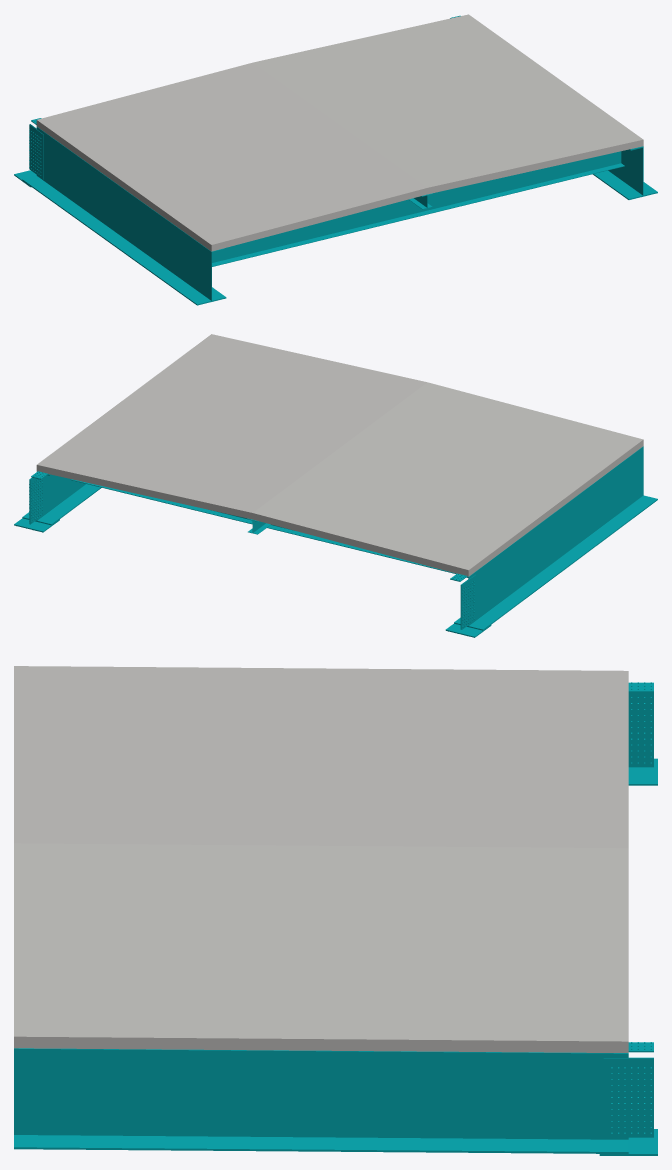
File: DECK_SN02.glb
The picture shows the model from 3 angles, top to bottom: view 1: azimuth 30°, elevation 25°; view 2: azimuth 150°, elevation 25°; view 3: azimuth 270°, elevation 25°; orthographic projection. The views are drawn at different scales.
Visible parts, largest first — view 1: SN02_Slab_15, SN02_G_W_0, SN02_FB_web_11, SN02_FB_bf_14, SN02_G_E_1, SN02_SpliceW_17; view 2: SN02_Slab_15, SN02_G_W_0, SN02_G_E_1, SN02_FB_bf_6, SN02_SpliceW_17, SN02_SpliceW_25; view 3: SN02_Slab_15, SN02_G_E_1, SN02_SpliceW_26, SN02_SpliceW_18.
Boxes of the visible parts, box(x1,y1,x2,y2) form: SN02_Slab_15: box(36, 14, 643, 251); SN02_G_W_0: box(22, 127, 226, 305); SN02_FB_web_11: box(212, 151, 621, 262); SN02_FB_bf_14: box(212, 163, 624, 266); SN02_G_E_1: box(593, 146, 657, 199); SN02_SpliceW_17: box(29, 124, 43, 179); SN02_Slab_15: box(36, 334, 643, 576); SN02_G_W_0: box(454, 446, 657, 630); SN02_G_E_1: box(22, 474, 101, 525); SN02_FB_bf_6: box(70, 479, 455, 573); SN02_SpliceW_17: box(461, 575, 476, 629); SN02_SpliceW_25: box(30, 477, 44, 524); SN02_Slab_15: box(14, 666, 628, 1052); SN02_G_E_1: box(14, 1048, 628, 1153); SN02_SpliceW_26: box(603, 1058, 653, 1137); SN02_SpliceW_18: box(628, 692, 653, 767).
Size of the model in its own units: 18.26 by 2.5 by 12.57.
